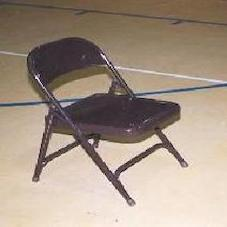chair: (15, 23, 198, 211)
